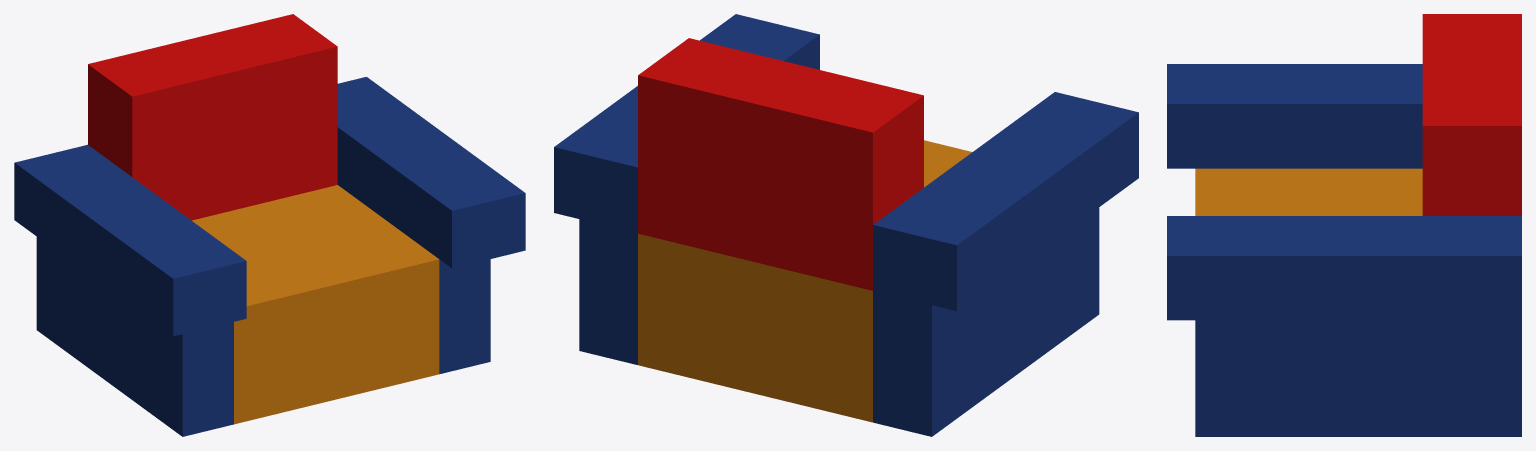
File: Chair_comfort.fbx
The picture shows the model from 3 angles, left to right: view 1: azimuth 30°, elevation 25°; view 2: azimuth 150°, elevation 25°; view 3: azimuth 270°, elevation 25°; orthographic projection. The views are drawn at different scales.
Visible parts, largest first — view 1: Cube_11; view 2: Cube_11; view 3: Cube_11.
Part boxes in pixels (x1,y1,x2,y2): Cube_11: [14, 14, 525, 436]; Cube_11: [554, 14, 1138, 436]; Cube_11: [1167, 14, 1521, 436].
Size of the model in its own units: 320 by 220 by 250.
